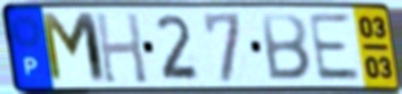2: (157, 12, 203, 83)
7: (200, 10, 244, 85)
B: (259, 12, 313, 83)
E: (305, 11, 364, 83)
H: (92, 10, 150, 86)
M: (37, 10, 110, 86)
